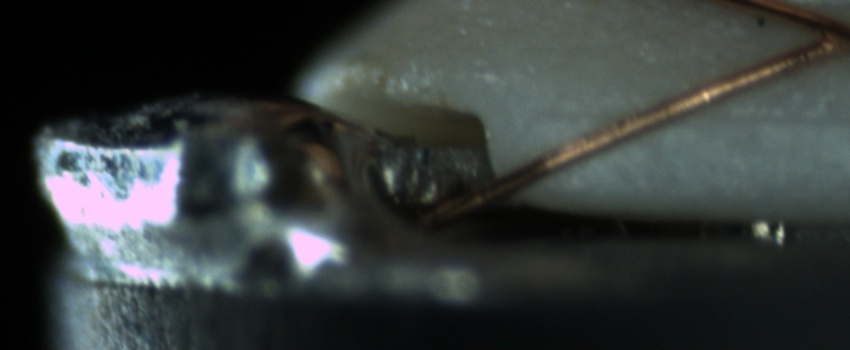CL: (792, 6, 850, 62)
DL: (543, 86, 850, 146)
